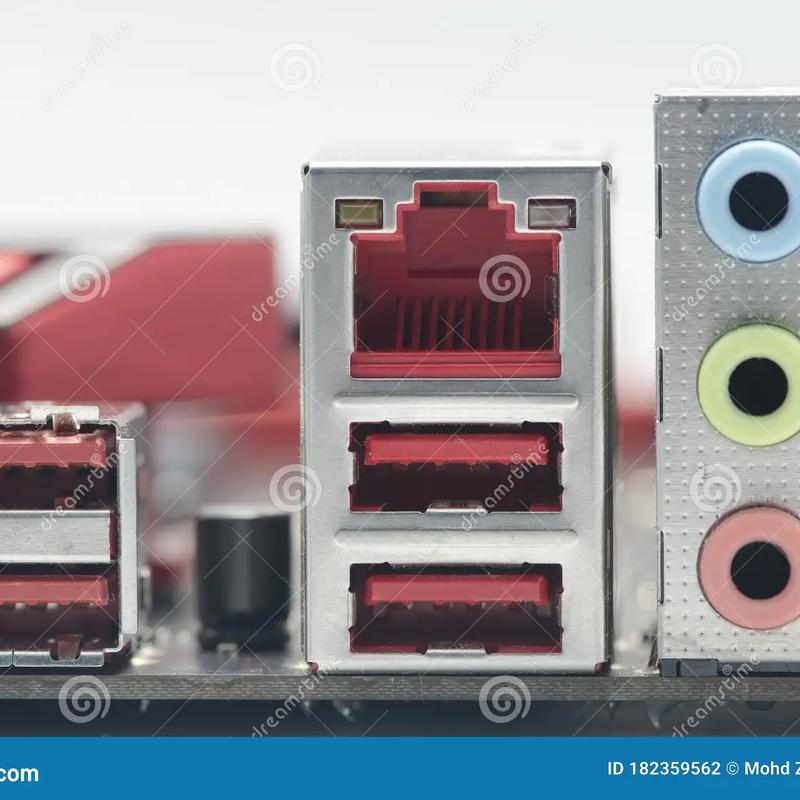AUDIO: (672, 110, 799, 294)
AUDIO_INPUT: (668, 303, 799, 463)
AUDIO_OUTPUT: (666, 488, 799, 652)
ETHERNET: (308, 171, 597, 401)
USB: (306, 402, 586, 528), (340, 536, 580, 664), (0, 395, 171, 538), (0, 548, 149, 676)
